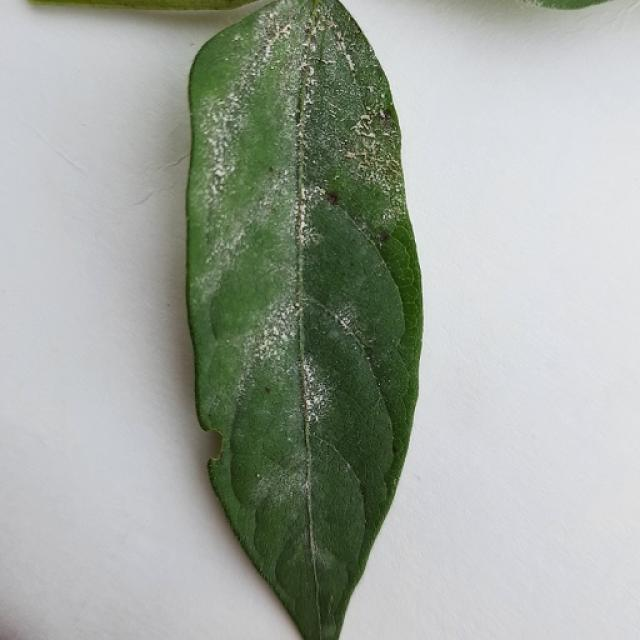Blackgram: (186, 0, 421, 639)
Powdery_Mildew: (198, 75, 285, 312), (340, 89, 402, 195), (245, 283, 302, 384), (199, 94, 251, 202), (315, 298, 374, 377), (206, 188, 255, 272), (285, 3, 348, 66), (291, 165, 312, 336), (296, 354, 337, 423), (258, 10, 303, 68), (299, 361, 332, 424), (350, 108, 385, 158), (208, 134, 235, 187), (331, 309, 356, 339), (295, 209, 313, 250), (300, 223, 325, 246), (349, 139, 372, 161), (270, 21, 294, 42), (269, 322, 288, 343), (261, 38, 276, 61), (261, 9, 279, 28), (269, 54, 285, 72), (343, 52, 357, 72), (302, 90, 316, 107), (521, 1, 548, 9), (338, 316, 351, 330), (306, 409, 318, 424), (314, 184, 327, 197), (214, 167, 226, 179), (280, 24, 292, 36), (359, 114, 372, 125), (299, 185, 307, 202), (301, 63, 312, 74), (327, 19, 338, 30), (210, 182, 219, 195), (303, 478, 311, 492), (270, 326, 279, 337), (308, 42, 317, 53), (363, 130, 375, 138), (345, 151, 357, 159), (205, 253, 213, 264), (304, 412, 312, 422), (297, 128, 305, 138), (379, 109, 386, 119), (233, 34, 241, 42), (382, 128, 390, 136), (392, 478, 397, 487), (395, 186, 401, 193), (333, 174, 340, 180), (294, 301, 300, 308), (311, 158, 317, 164), (223, 57, 229, 63), (287, 437, 293, 443), (366, 353, 371, 360), (226, 337, 231, 344), (321, 328, 326, 335), (381, 93, 386, 99), (270, 65, 275, 71), (256, 473, 261, 478), (377, 382, 381, 387)
